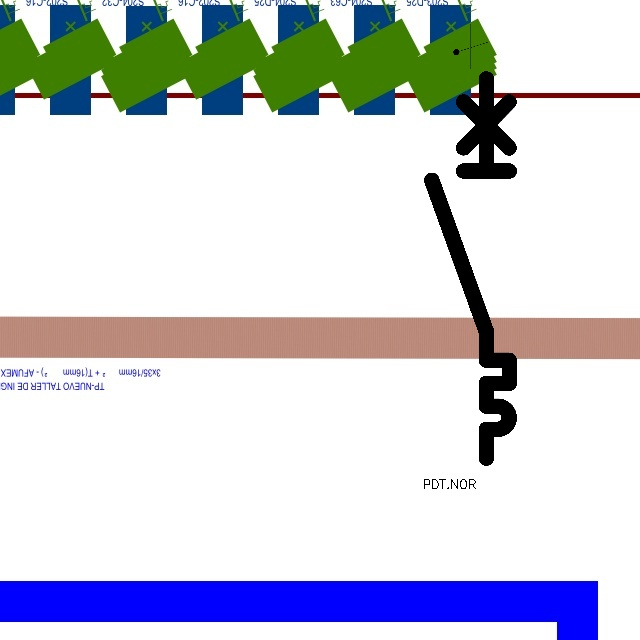interruptor_termomagnetico: (422, 69, 519, 467)
